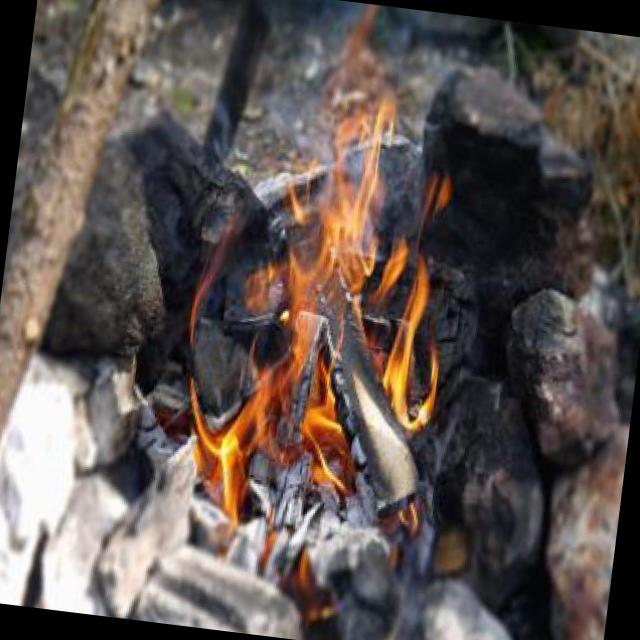fire: (172, 122, 464, 546)
